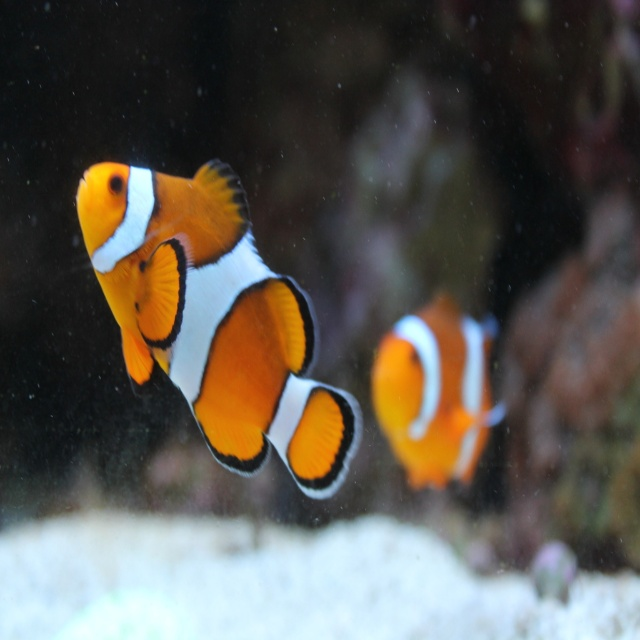Fish: (75, 159, 365, 499), (371, 286, 509, 490)
